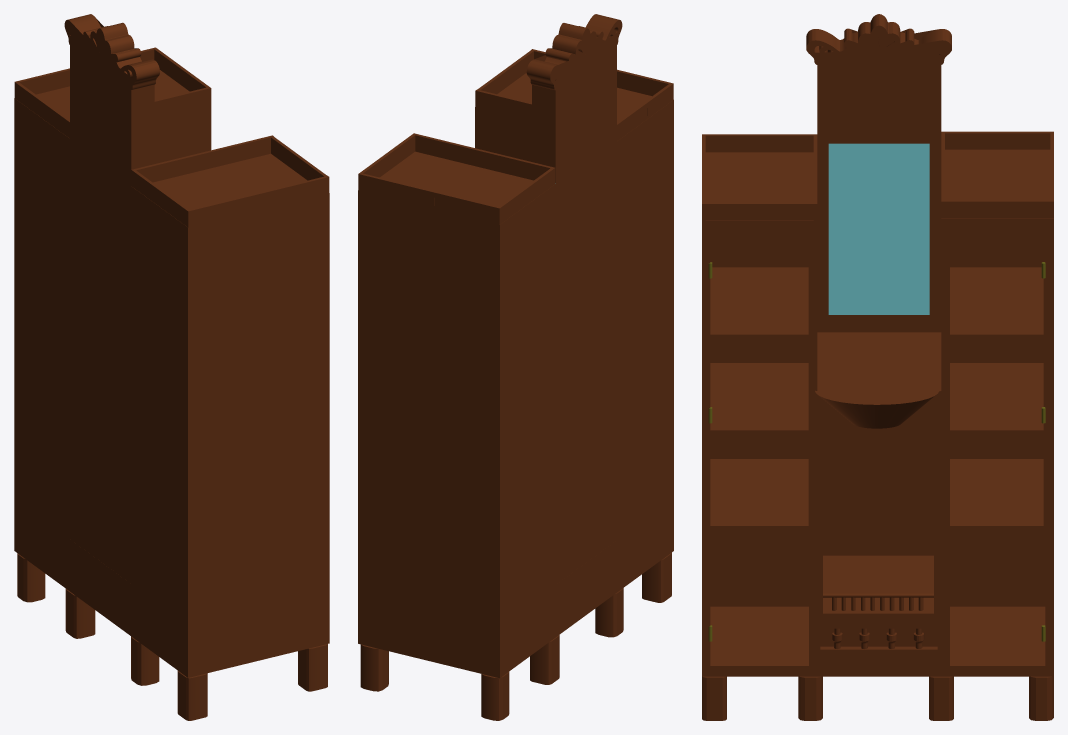
File: vetrina.fbx
The picture shows the model from 3 angles, left to right: view 1: azimuth 30°, elevation 25°; view 2: azimuth 150°, elevation 25°; view 3: azimuth 270°, elevation 25°; orthographic projection.
Parts seen in each view (by area): view 1: Cylinder; view 2: Cylinder; view 3: Cylinder.
Part boxes in pixels (left/top/right/bottom): Cylinder: left=14, top=14, right=329, bottom=720; Cylinder: left=358, top=14, right=673, bottom=720; Cylinder: left=702, top=14, right=1053, bottom=720.
Size of the model in its own units: 147 by 521 by 261.
